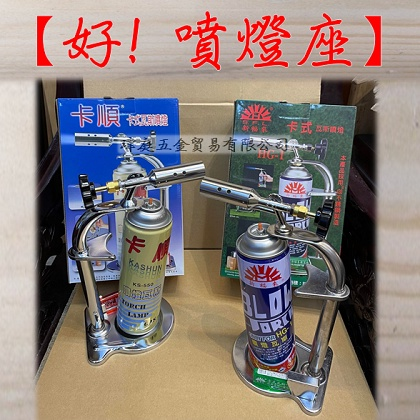gastorch: (200, 176, 347, 416), (71, 158, 212, 366), (74, 131, 169, 281), (255, 136, 337, 269)
